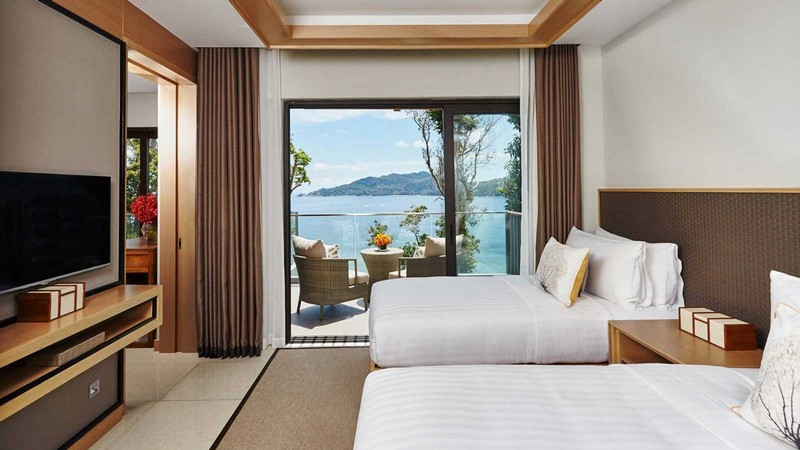bed: (349, 334, 800, 445), (366, 223, 681, 364)
stool: (610, 309, 769, 373)
